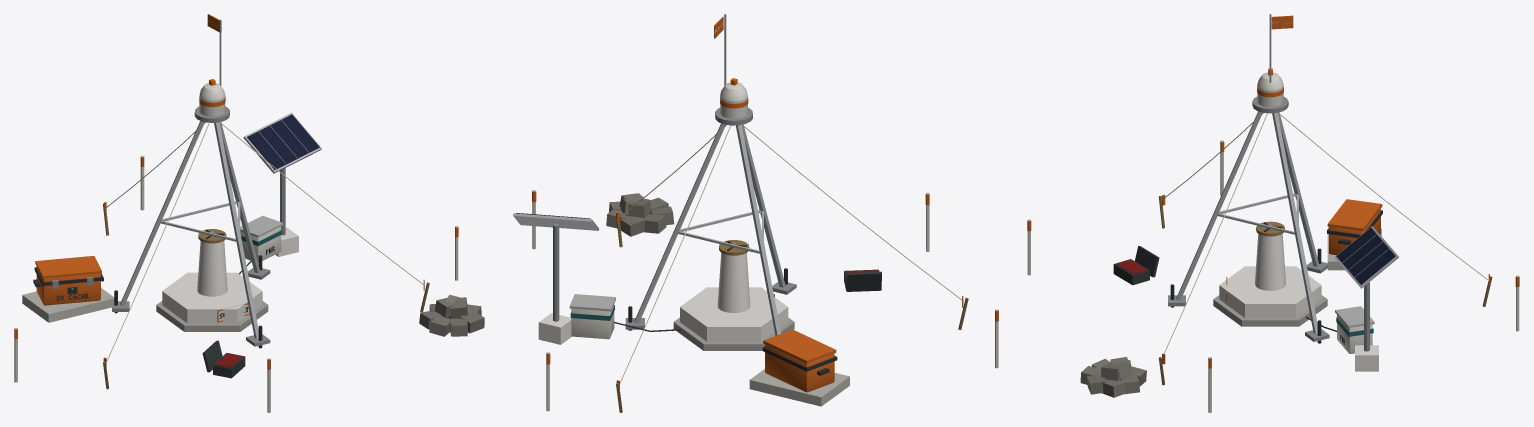
The model's file is survey-marker.glb.
The picture shows the model from 3 angles, left to right: view 1: azimuth 30°, elevation 25°; view 2: azimuth 150°, elevation 25°; view 3: azimuth 270°, elevation 25°; orthographic projection. The views are drawn at different scales.
Visible parts, largest first — view 1: C0_0_lod0, C-1_0_lod0, C0_-1_lod0, C-1_-1_lod0; view 2: C0_0_lod0, C-1_0_lod0, C0_-1_lod0, C-1_-1_lod0; view 3: C0_0_lod0, C0_-1_lod0, C-1_0_lod0, C-1_-1_lod0.
Part boxes in pixels (x1=…): C0_0_lod0: x1=103, y1=14, x2=321, y2=331; C-1_0_lod0: x1=22, y1=121, x2=204, y2=322; C0_-1_lod0: x1=214, y1=122, x2=484, y2=348; C-1_-1_lod0: x1=14, y1=123, x2=270, y2=412; C0_0_lod0: x1=513, y1=14, x2=794, y2=412; C-1_0_lod0: x1=736, y1=125, x2=849, y2=406; C0_-1_lod0: x1=532, y1=124, x2=796, y2=296; C-1_-1_lod0: x1=737, y1=124, x2=998, y2=368; C0_0_lod0: x1=1213, y1=14, x2=1519, y2=371; C0_-1_lod0: x1=1080, y1=111, x2=1295, y2=412; C-1_0_lod0: x1=1278, y1=112, x2=1382, y2=273; C-1_-1_lod0: x1=1027, y1=113, x2=1296, y2=285.
Size of what is drawn, in the model's own units: 8.56 by 5.45 by 8.16.
